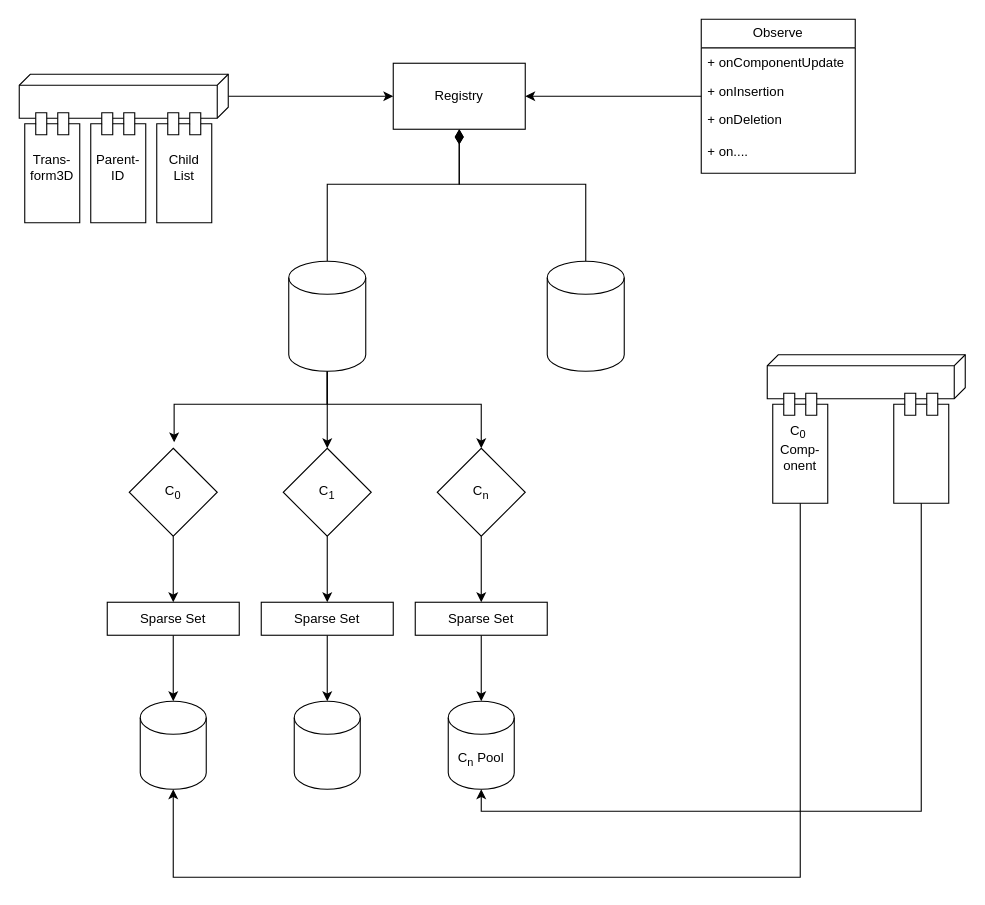
Image size: 985x905. Some labels were removed from this diagram. The shapes that lost their labels are listed below. From the top down, each one's centre as x and y in pixels, then its label:
At point (123, 95): "Entity Prototype".
At point (327, 315): "Component Storage".
At point (585, 315): "Entity ID pool".
At point (865, 376): "Render Subsystem".
At point (921, 447): "C n Comp-onent".
At point (172, 744): "C 0 Pool".
At point (326, 744): "C 1 Pool".
